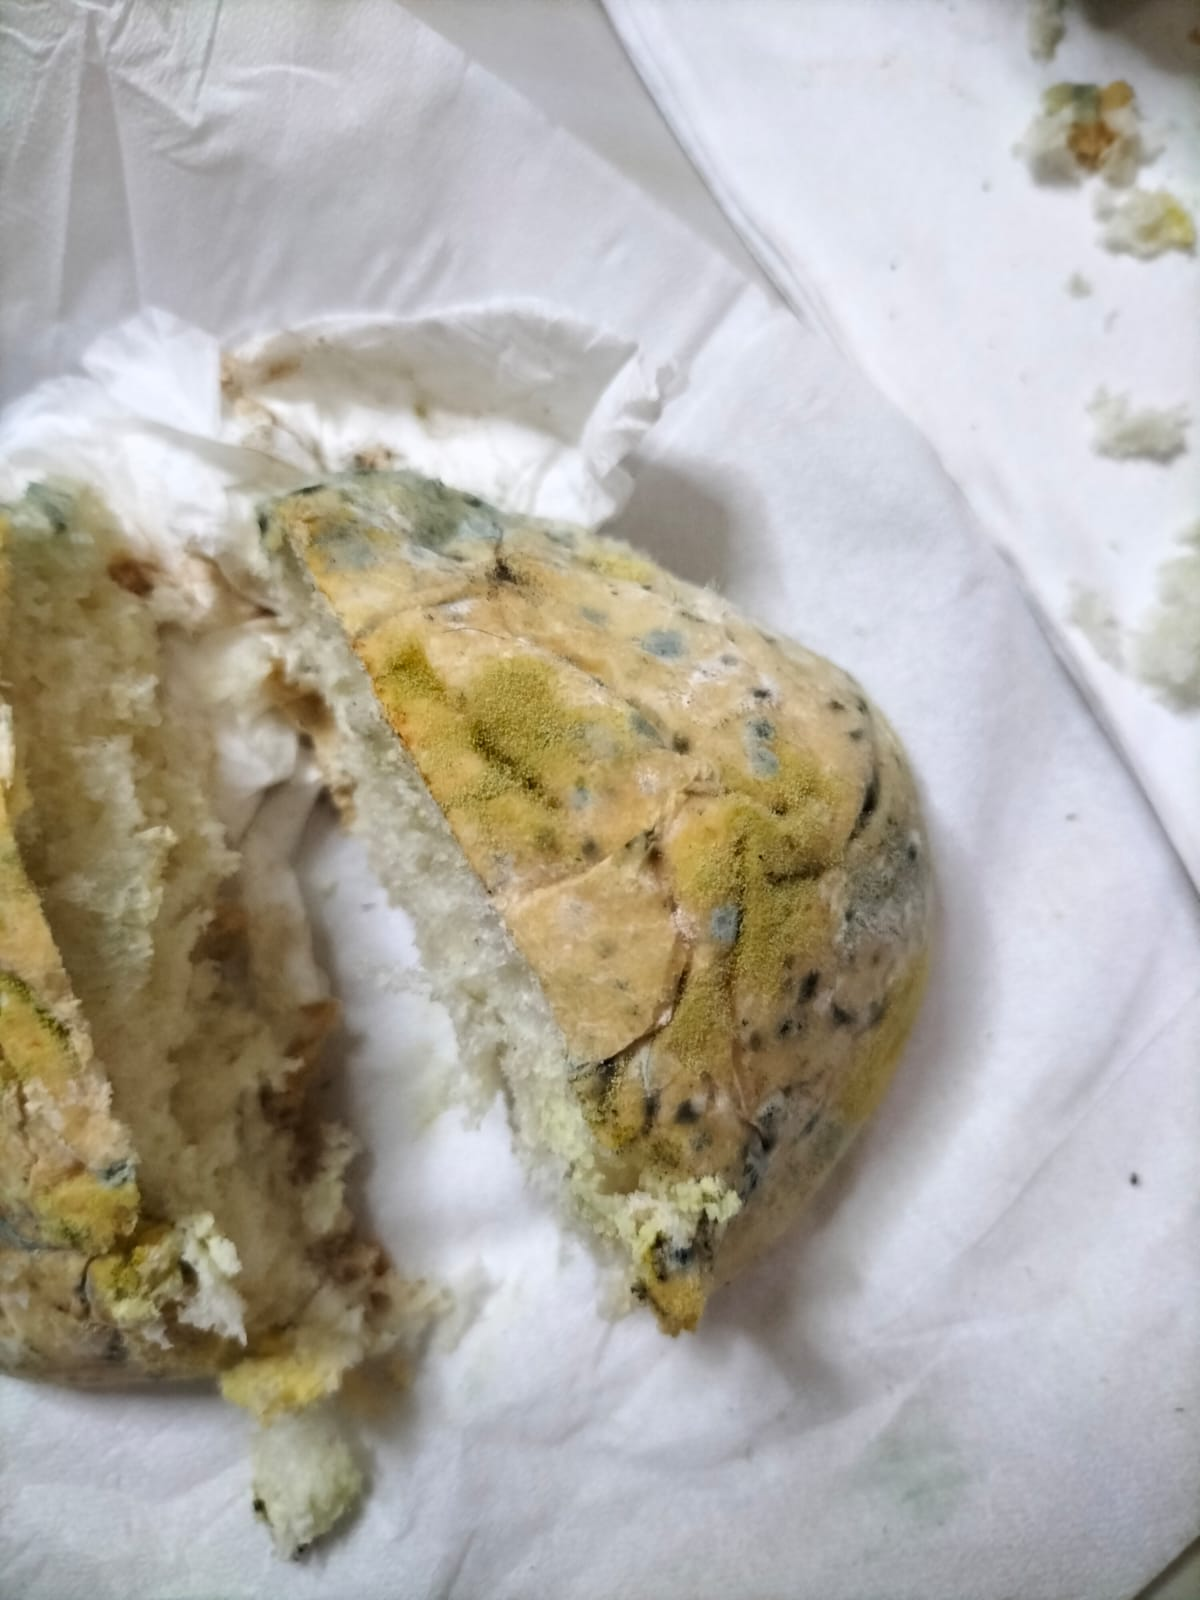mold_bread: (284, 442, 502, 583), (821, 826, 949, 973), (735, 1080, 792, 1206), (735, 711, 792, 792), (821, 683, 880, 752), (698, 889, 745, 952), (638, 619, 688, 666), (93, 1146, 141, 1196), (563, 763, 597, 813)
